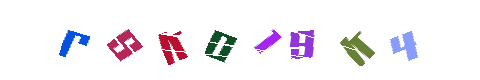0: (181, 0, 261, 80)
1: (199, 0, 279, 80)
4: (340, 0, 420, 80)
9: (251, 0, 331, 80)
K: (180, 0, 260, 80), (310, 0, 390, 80)
R: (32, 0, 112, 80)
S: (108, 0, 188, 80)
